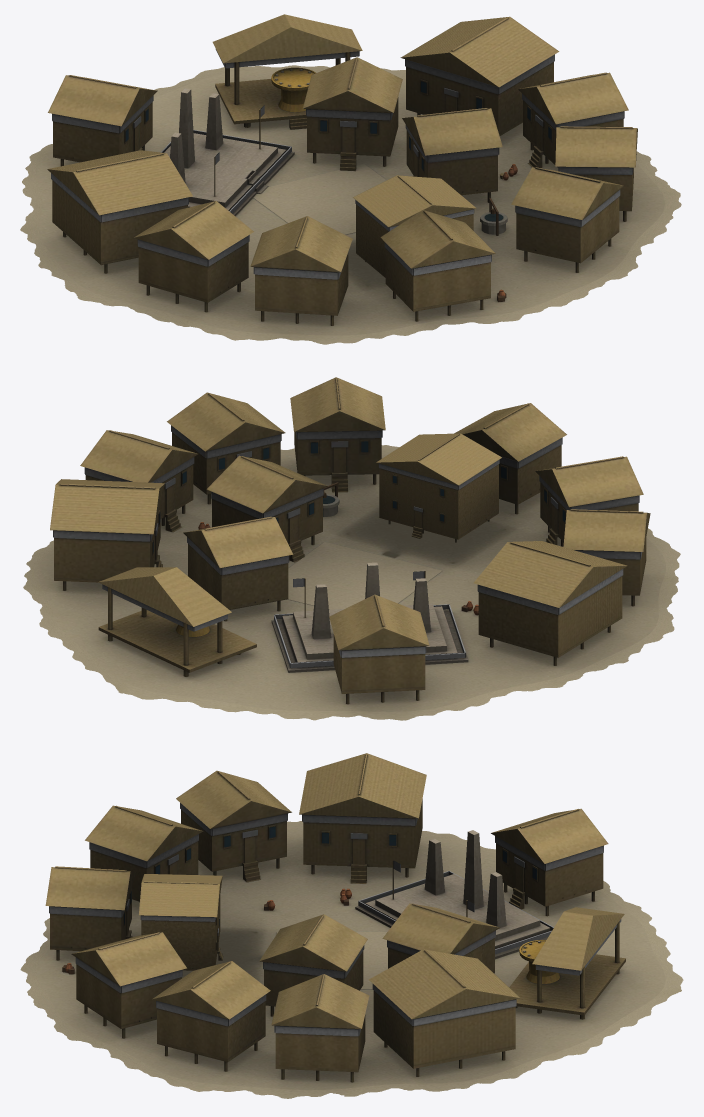
Rendered from bronze-town-medium-b-monsoon-38f0b371.glb.
The picture shows the model from 3 angles, top to bottom: view 1: azimuth 30°, elevation 25°; view 2: azimuth 150°, elevation 25°; view 3: azimuth 270°, elevation 25°; orthographic projection.
Visible parts, largest first — view 1: LOD0; view 2: LOD0; view 3: LOD0.
Boxes of the visible parts, x1=… form: LOD0: x1=20, y1=14, x2=681, y2=344; LOD0: x1=23, y1=377, x2=680, y2=720; LOD0: x1=20, y1=753, x2=683, y2=1098.
Size of what is drawn, in the model's own units: 5.98 by 0.8712 by 6.01.
3 materials, 3 textured.
